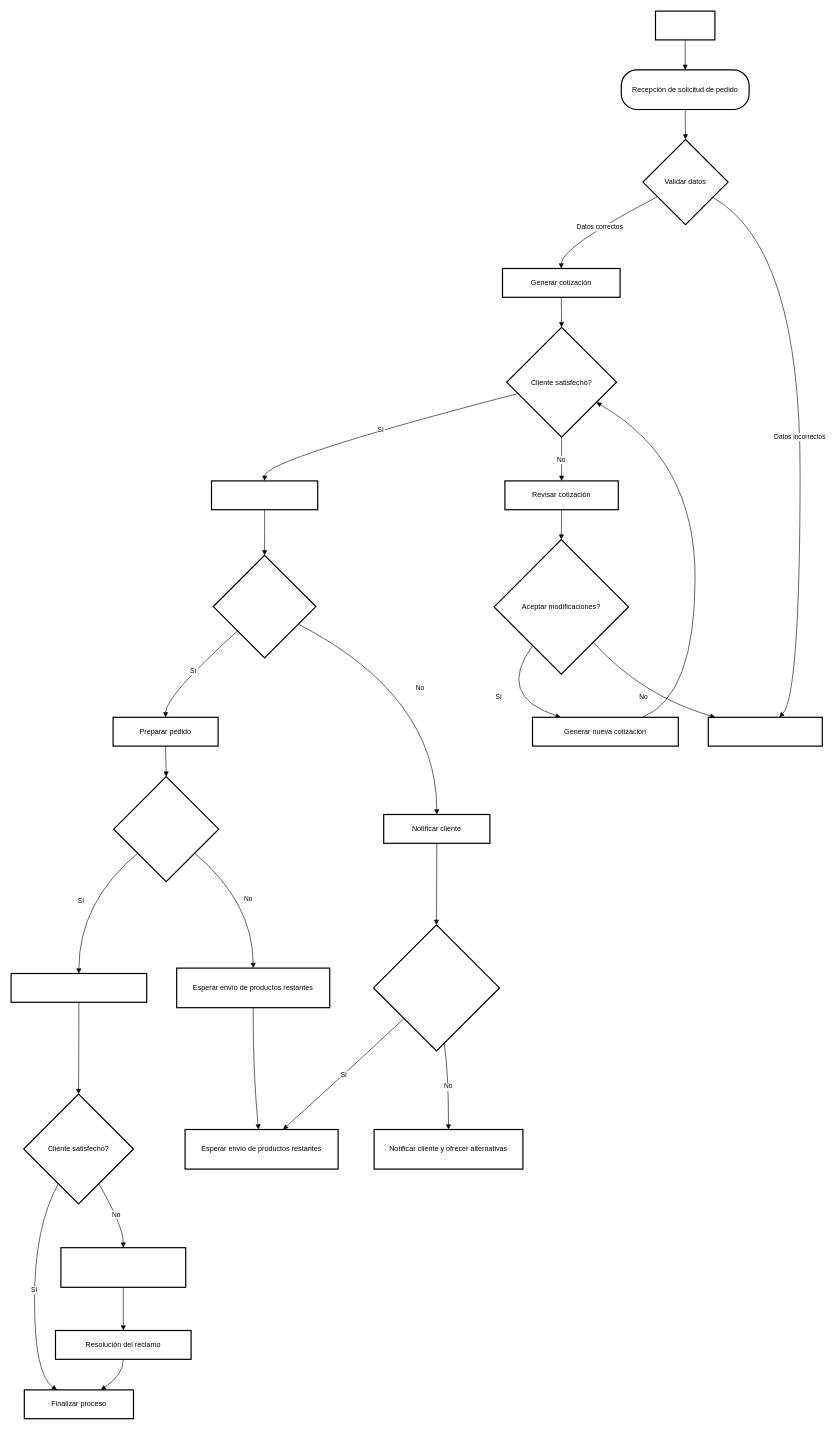
Image size: 837x1429. Some labels were removed from this diagram. The centre of each missing label's shape, as x and y in pixels:
Atender reclamo del cliente: [123,1267]
Enviar pedido a cliente: [78,988]
Inicio: [685,25]
Nuevo stock en X días?: [436,987]
Pedido completo?: [166,829]
Rechazar solicitud: [765,731]
Registrar pedido: [264,495]
Stock disponible?: [264,606]
